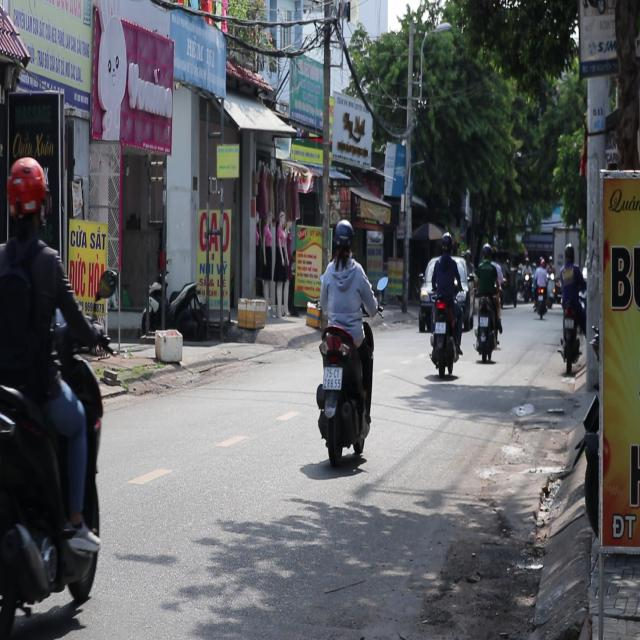helmet: (1, 154, 51, 239), (331, 217, 354, 259)
licenseplate: (0, 150, 107, 640), (313, 215, 378, 466)
nohelmet: (323, 367, 342, 389)
